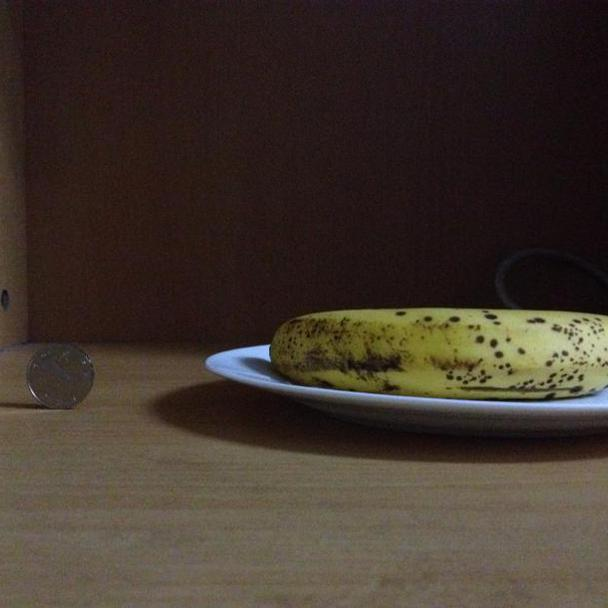banana: (269, 301, 608, 401)
